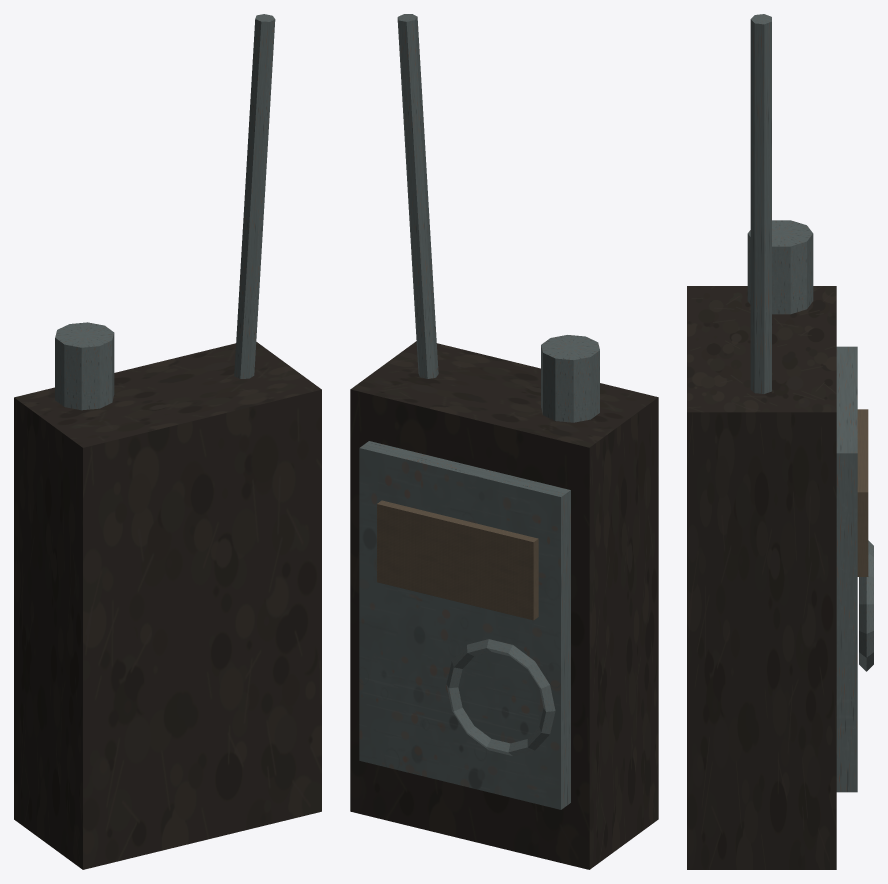
Rendered from ax-com-001_handheld_radio__off.obj.
3 views of the same model, side by side, from view 1: azimuth 30°, elevation 25°; view 2: azimuth 150°, elevation 25°; view 3: azimuth 270°, elevation 25° (orthographic). The views are drawn at different scales.
Parts seen in each view (by area): view 1: ax-com-001_handheld_radio__off; view 2: ax-com-001_handheld_radio__off; view 3: ax-com-001_handheld_radio__off.
Boxes of the visible parts, bbox=[...] form: ax-com-001_handheld_radio__off: bbox=[14, 14, 321, 869]; ax-com-001_handheld_radio__off: bbox=[350, 14, 658, 869]; ax-com-001_handheld_radio__off: bbox=[687, 14, 873, 869].
Bounding box in the file's own units: 0.32 × 0.9907 × 0.2.
3 materials, 3 textured.
